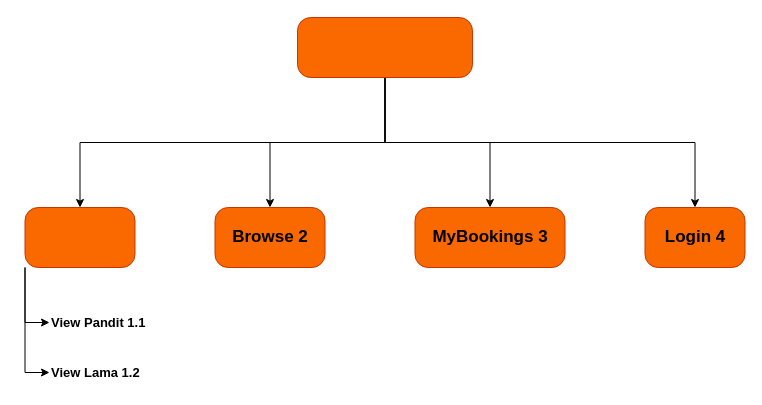
Some shapes in this 762 by 405 pixel diagram are drawn without their labels. Here are the shapes that lost their labels. From the top down, the box of each, then its label:
(296, 16, 472, 78): MeroPanditLama
(24, 206, 135, 268): Home 1
